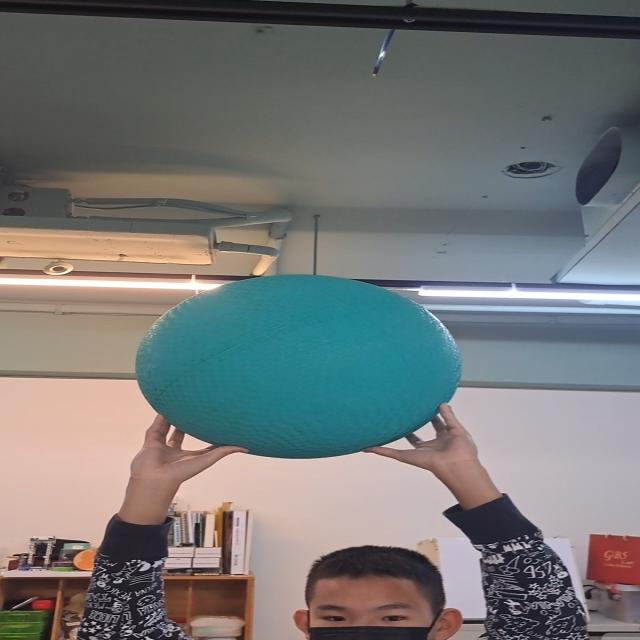ALGAE: (135, 274, 461, 458)
